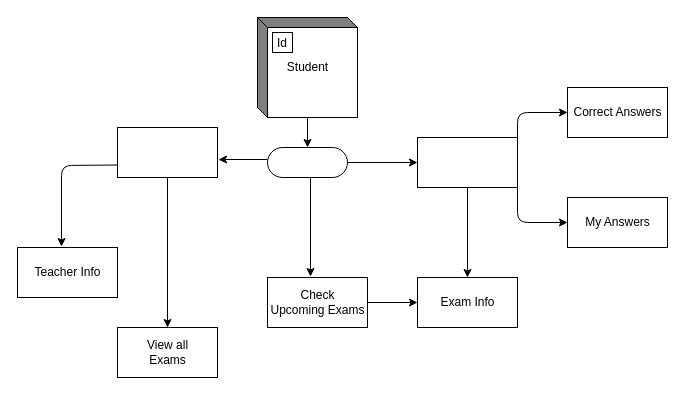
Some shapes in this 685 by 395 pixel diagram are drawn without their labels. The shapes that lost their labels are listed below. From the top down, each one's centre as x and y in pixels, then its label:
point (167, 152): View Courses
point (307, 162): Login/Signup
point (467, 162): Check Previous Exams
